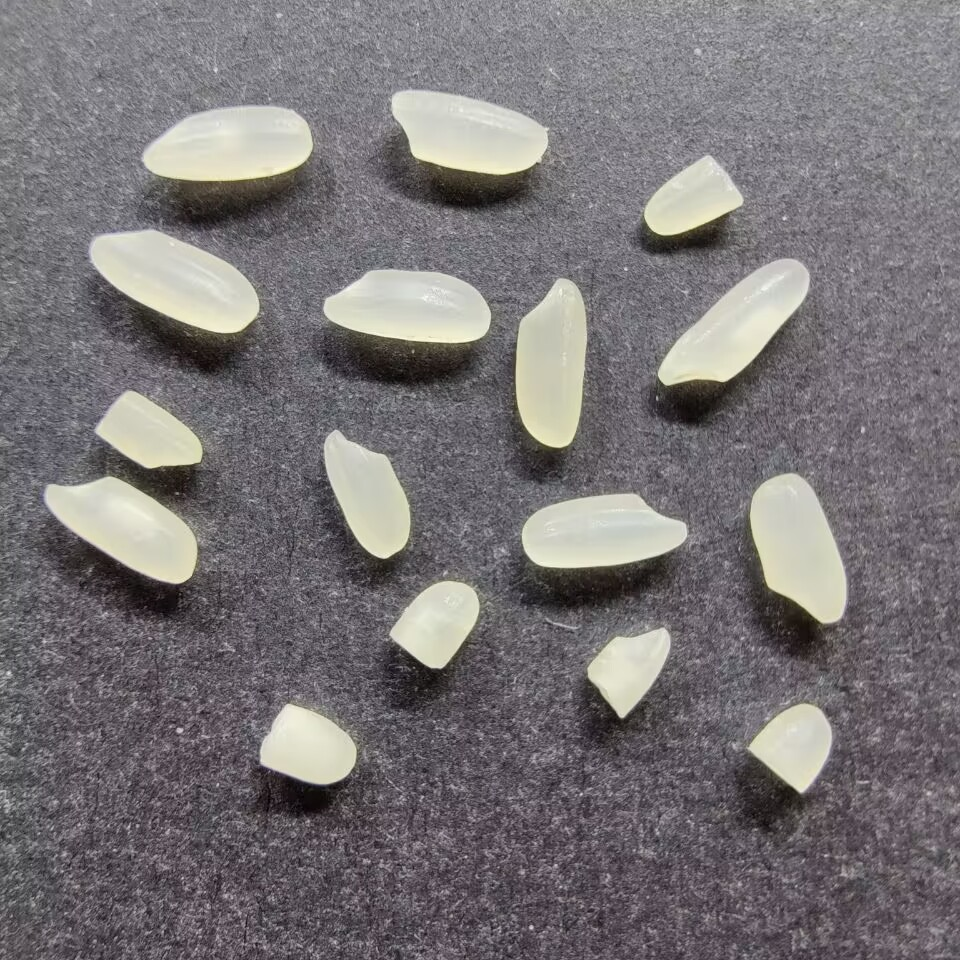broken: (90, 387, 205, 470), (580, 624, 676, 723), (641, 152, 747, 237), (256, 701, 359, 787), (387, 580, 480, 671), (746, 703, 835, 795)
rice: (653, 255, 811, 386), (86, 227, 261, 334), (40, 473, 199, 586), (748, 470, 850, 625), (141, 102, 314, 183), (388, 88, 548, 175), (320, 267, 493, 345), (512, 276, 588, 449), (518, 492, 688, 569), (321, 425, 414, 560)
